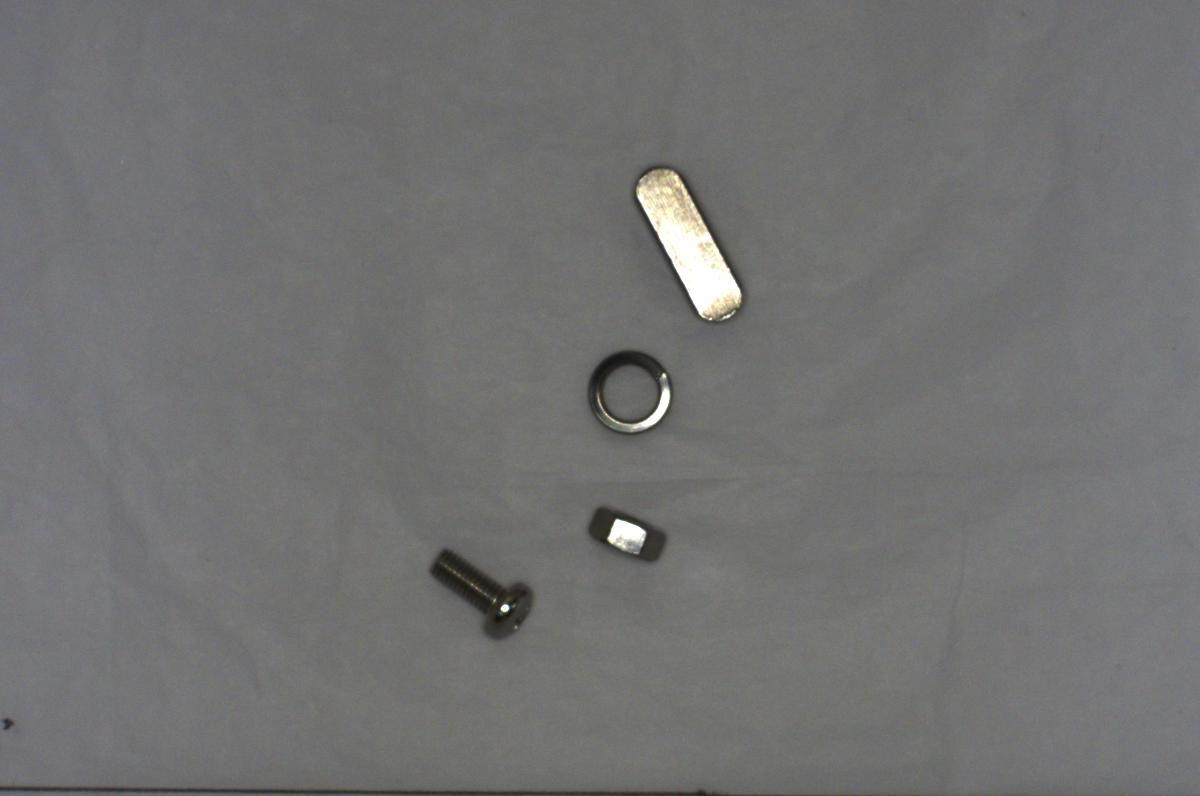Hexagon nut: (579, 496, 674, 565)
Keybar: (632, 161, 748, 327)
Round head screw: (425, 538, 539, 649)
Spring washer: (586, 343, 682, 441)
